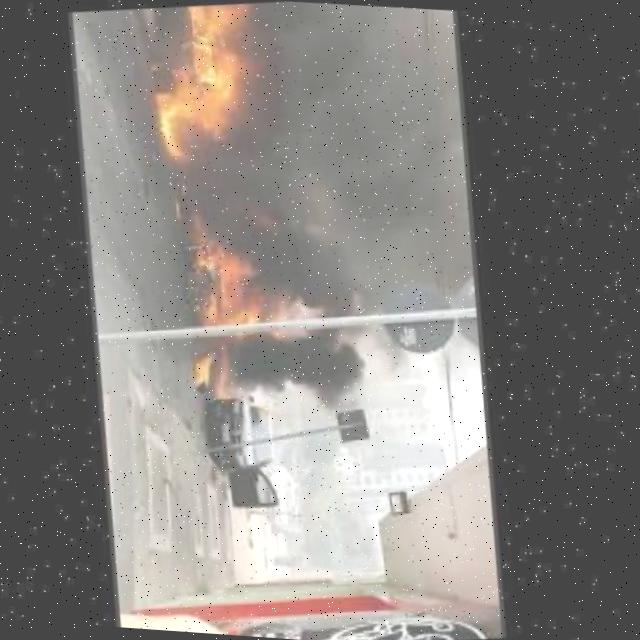fire: (143, 0, 276, 172), (194, 235, 314, 339), (192, 353, 224, 386)
